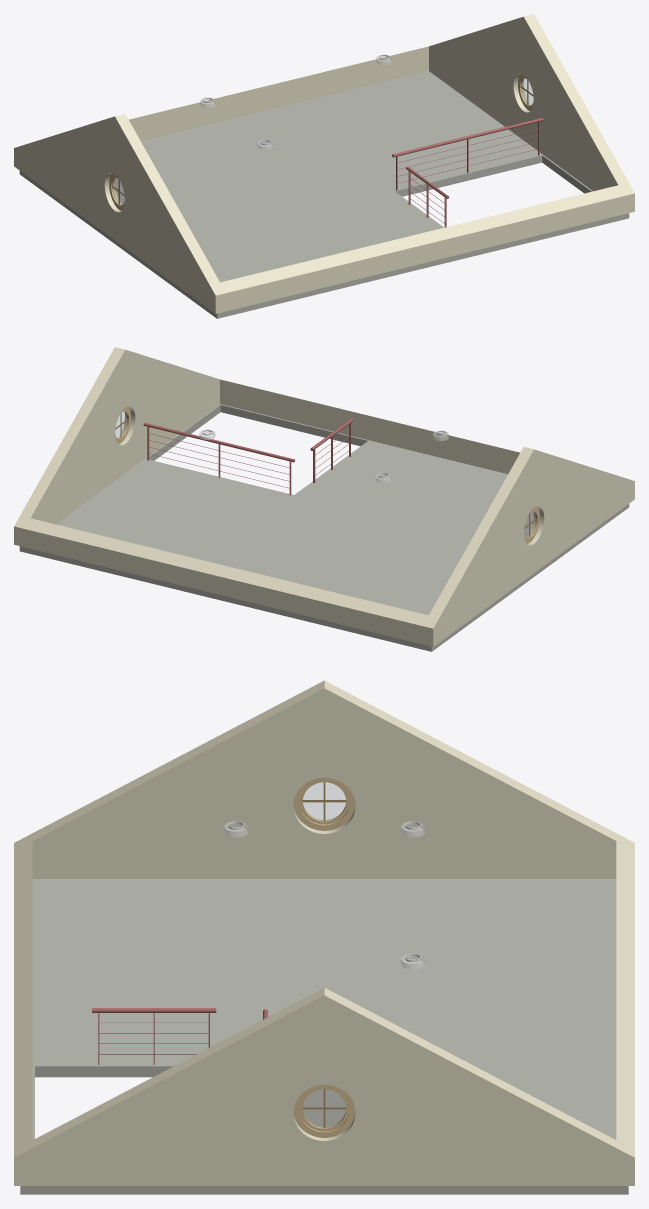
File: House2F.glb
3 renders of one model, top to bottom at view 1: azimuth 30°, elevation 25°; view 2: azimuth 150°, elevation 25°; view 3: azimuth 270°, elevation 25°, orthographic. The views are drawn at different scales.
Parts seen in each view (by area): view 1: IfcSlab/2F, IfcWallStandardCase/2F1, IfcWallStandardCase/2F3, IfcWallStandardCase/2F2, IfcWallStandardCase/2F4, IfcRailing/1, IfcRailing/2, 2F2; view 2: IfcSlab/2F, IfcWallStandardCase/2F1, IfcWallStandardCase/2F3, IfcWallStandardCase/2F4, IfcWallStandardCase/2F2, 2F2, IfcRailing/1, IfcRailing/2; view 3: IfcSlab/2F, IfcWallStandardCase/2F3, IfcWallStandardCase/2F1, IfcWallStandardCase/2F2, IfcWallStandardCase/2F4, IfcWindow/2F1, IfcWindow/2F2, IfcRailing/2.
Boxes of the visible parts, left/top/right/bottom form: IfcSlab/2F: left=19, top=71, right=629, bottom=318; IfcWallStandardCase/2F1: left=14, top=114, right=219, bottom=313; IfcWallStandardCase/2F3: left=429, top=14, right=634, bottom=193; IfcWallStandardCase/2F2: left=215, top=185, right=634, bottom=313; IfcWallStandardCase/2F4: left=129, top=46, right=428, bottom=140; IfcRailing/1: left=392, top=118, right=543, bottom=190; IfcRailing/2: left=406, top=166, right=449, bottom=227; 2F2: left=542, top=155, right=592, bottom=193; IfcSlab/2F: left=19, top=440, right=629, bottom=651; IfcWallStandardCase/2F1: left=429, top=447, right=634, bottom=646; IfcWallStandardCase/2F3: left=14, top=347, right=219, bottom=526; IfcWallStandardCase/2F4: left=14, top=518, right=433, bottom=646; IfcWallStandardCase/2F2: left=220, top=379, right=519, bottom=473; 2F2: left=145, top=404, right=368, bottom=460; IfcRailing/1: left=143, top=423, right=295, bottom=495; IfcRailing/2: left=310, top=418, right=353, bottom=483; IfcSlab/2F: left=20, top=879, right=628, bottom=1194; IfcWallStandardCase/2F3: left=14, top=987, right=634, bottom=1185; IfcWallStandardCase/2F1: left=14, top=680, right=634, bottom=878; IfcWallStandardCase/2F2: left=14, top=841, right=32, bottom=1157; IfcWallStandardCase/2F4: left=616, top=841, right=634, bottom=1157; IfcWindow/2F1: left=293, top=1084, right=355, bottom=1137; IfcWindow/2F2: left=293, top=777, right=355, bottom=830; IfcRailing/2: left=92, top=1008, right=216, bottom=1064.
Size of the model in its own units: 12 by 3.58 by 10.
